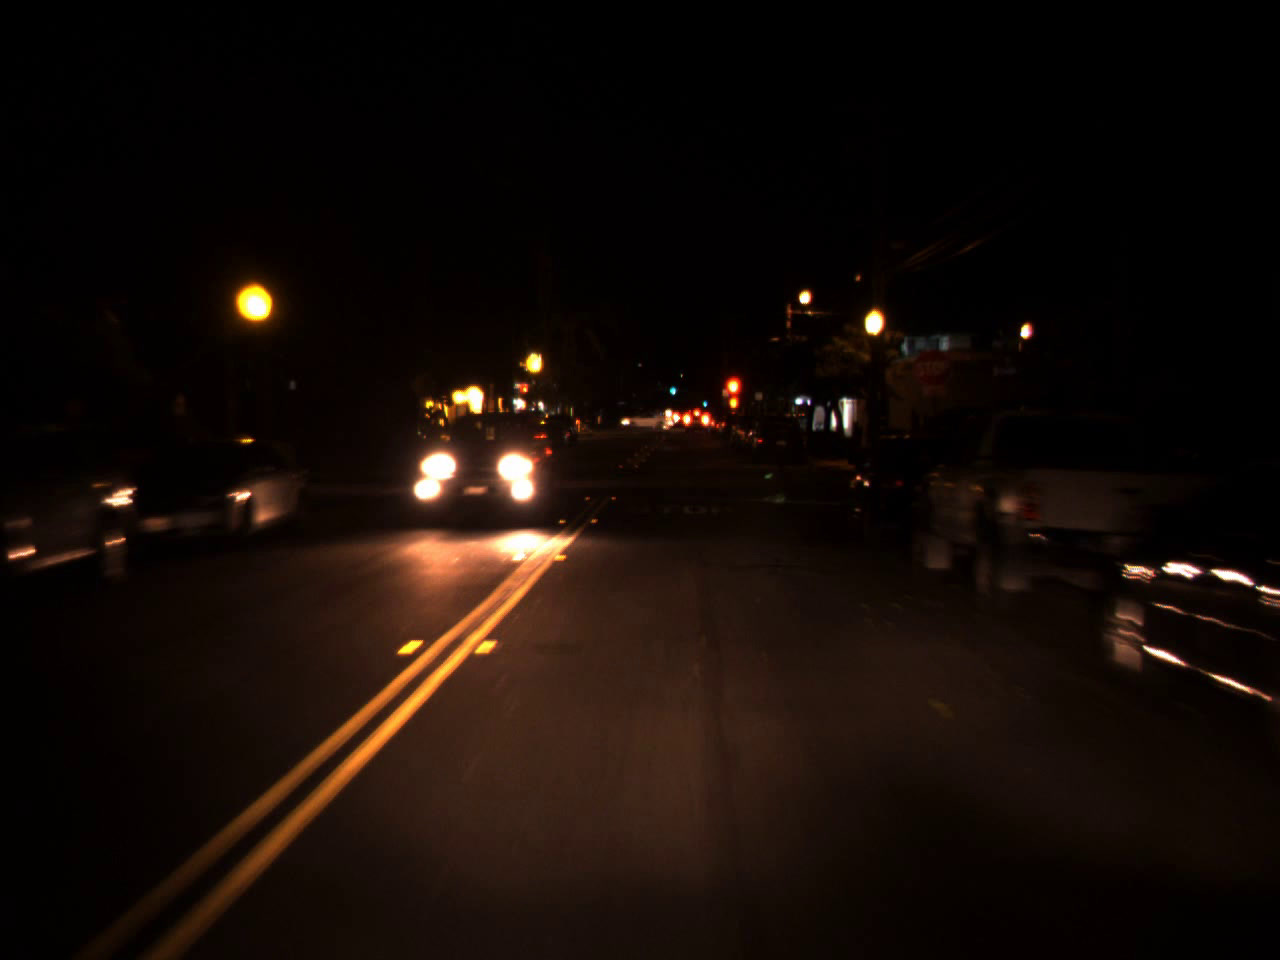go: (667, 380, 676, 395), (700, 395, 707, 407)
stop: (725, 377, 743, 404), (519, 383, 531, 404)
